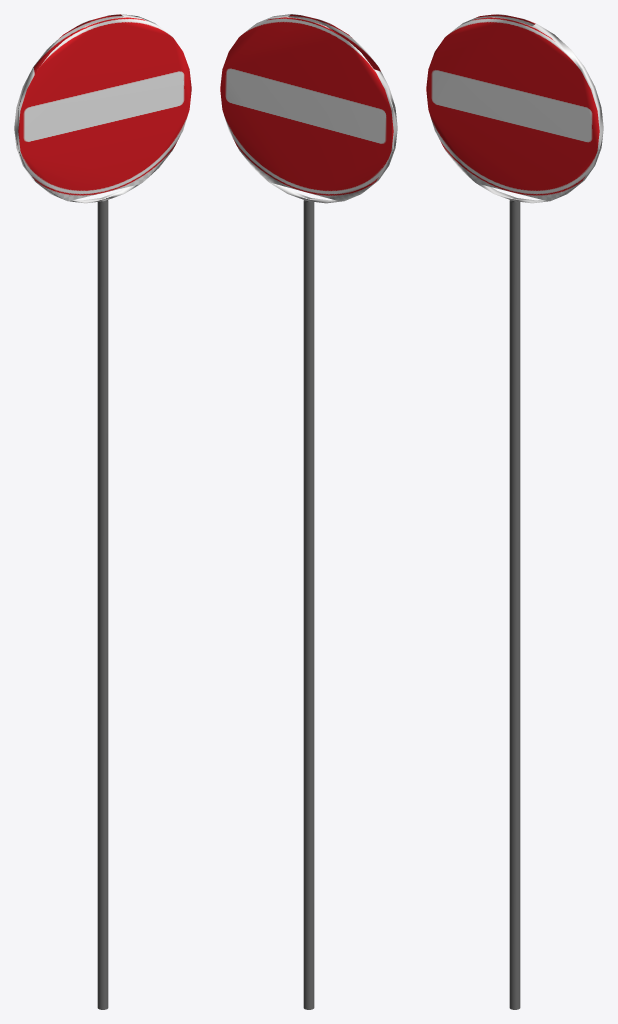
The model's file is tabela.dae.
The picture shows the model from 3 angles, left to right: view 1: azimuth 30°, elevation 25°; view 2: azimuth 150°, elevation 25°; view 3: azimuth 330°, elevation 25°; orthographic projection.
Parts seen in each view (by area): view 1: Yuvarlak İşaret; view 2: Yuvarlak İşaret; view 3: Yuvarlak İşaret.
Boxes of the visible parts, x1=… form: Yuvarlak İşaret: x1=14, y1=14, x2=191, y2=1009; Yuvarlak İşaret: x1=220, y1=14, x2=397, y2=1009; Yuvarlak İşaret: x1=426, y1=14, x2=603, y2=1009.
Size of the model in its own units: 0.45 by 0.0242 by 2.45.
Materials: 2 (1 with a texture image).
